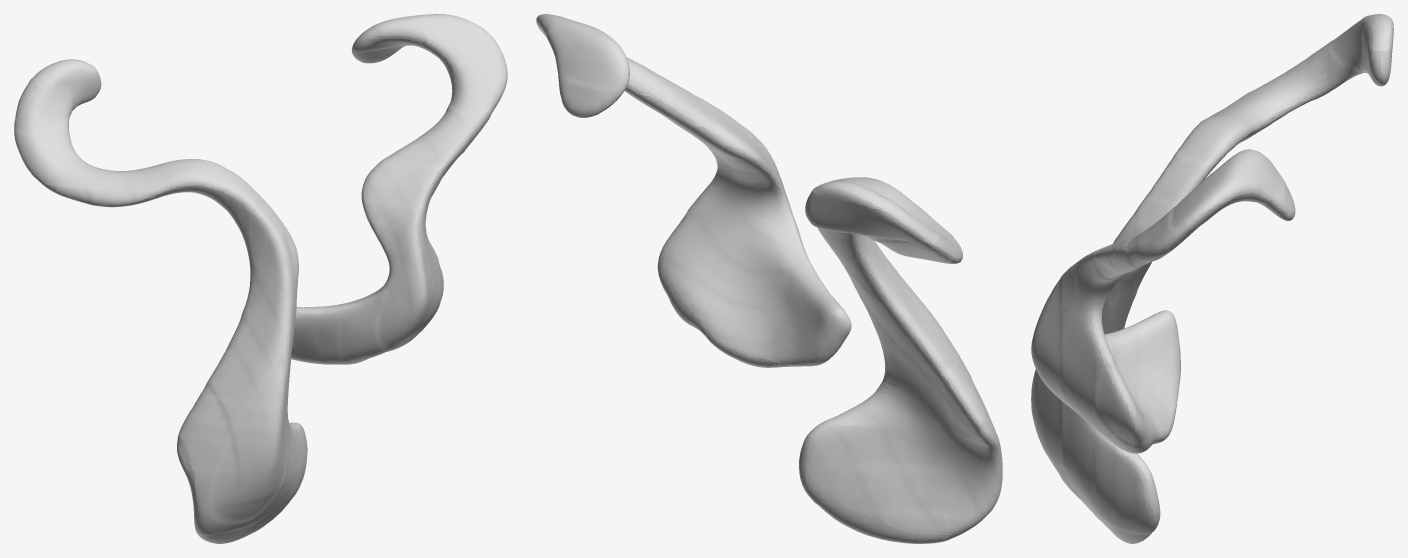
3 views of the same model, side by side, from view 1: azimuth 30°, elevation 25°; view 2: azimuth 150°, elevation 25°; view 3: azimuth 270°, elevation 25° (orthographic). The views are drawn at different scales.
Parts seen in each view (by area): view 1: tmpji0avaqy.ply; view 2: tmpji0avaqy.ply; view 3: tmpji0avaqy.ply.
Part boxes in pixels (x1,y1,x2,y2): tmpji0avaqy.ply: [14, 14, 507, 543]; tmpji0avaqy.ply: [536, 14, 1002, 543]; tmpji0avaqy.ply: [1031, 14, 1393, 543].
Size of the model in its own units: 2.56 by 2.51 by 1.66.
1 material, 1 textured.
